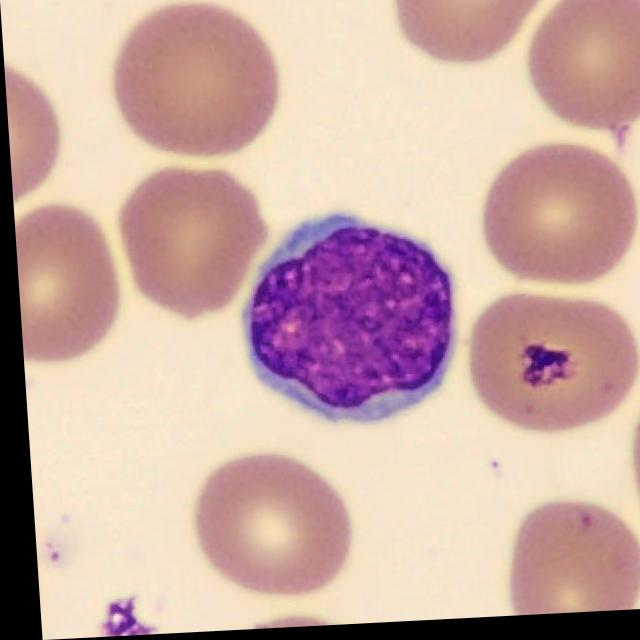Linfocito: (244, 218, 451, 428)
